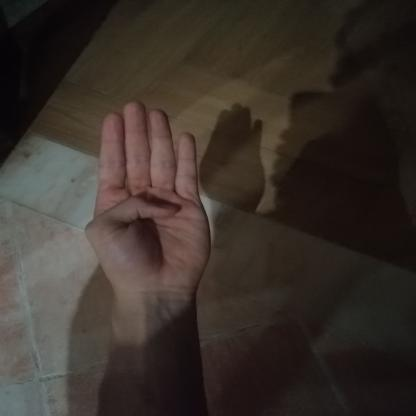KAAF: (74, 90, 221, 308)
